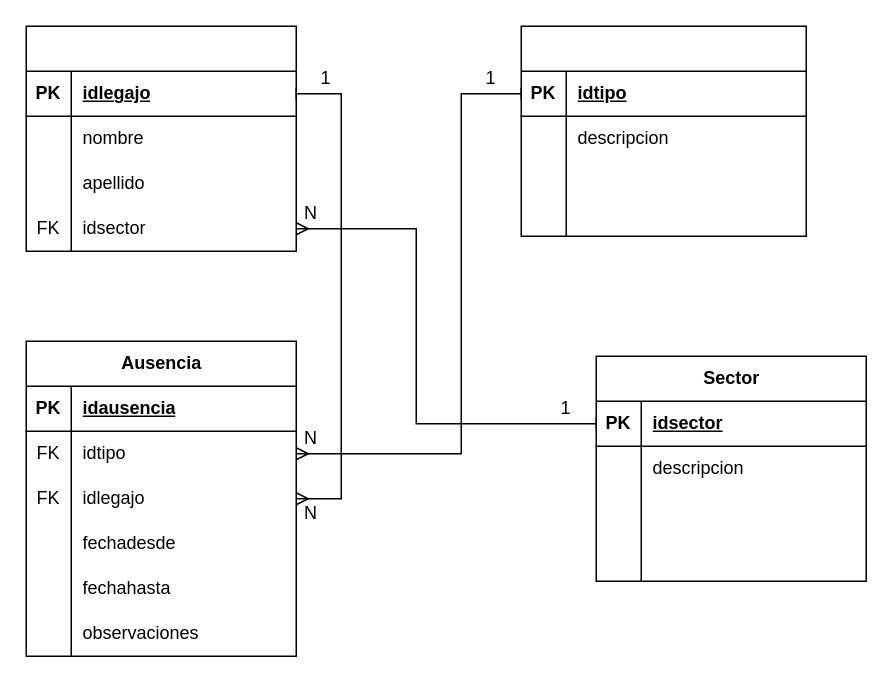
This 893x683 diagram has some shape labels left out. Here are the shapes that lost their labels. From the top down, the box of each, then its label:
(25, 25, 296, 251): Empleado
(520, 25, 806, 236): TipoAusencia
